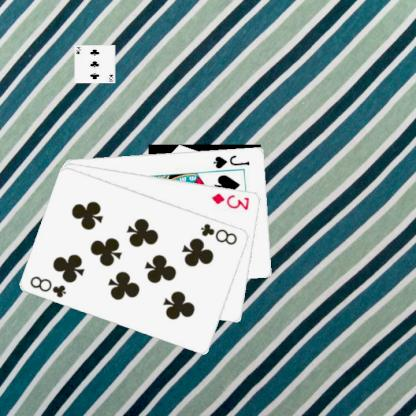3D: (208, 190, 250, 212)
8C: (28, 274, 68, 300), (198, 221, 239, 246)
JS: (211, 152, 251, 169)
